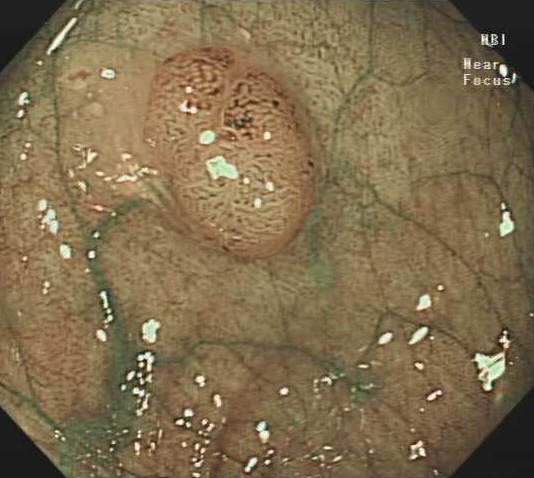adenoma: (143, 45, 320, 267)
